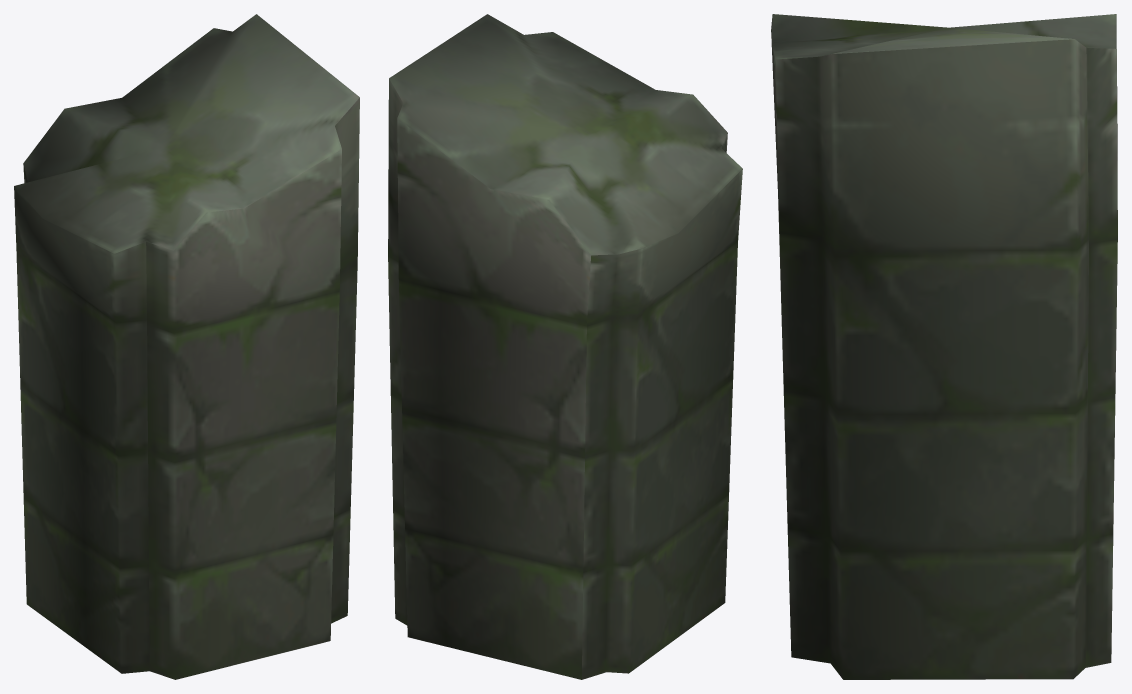
File: yw_shanlin_postbreak_01.FBX
3 renders of one model, left to right at view 1: azimuth 30°, elevation 25°; view 2: azimuth 150°, elevation 25°; view 3: azimuth 270°, elevation 25°, orthographic. The views are drawn at different scales.
Parts seen in each view (by area): view 1: yw_shanlin_postbreak_01; view 2: yw_shanlin_postbreak_01; view 3: yw_shanlin_postbreak_01.
Boxes of the visible parts, box(x1,y1,x2,y2) form: yw_shanlin_postbreak_01: box(14, 14, 359, 679); yw_shanlin_postbreak_01: box(388, 14, 742, 679); yw_shanlin_postbreak_01: box(771, 14, 1117, 679).
Size of the model in its own units: 40.4 by 39.62 by 81.17.
